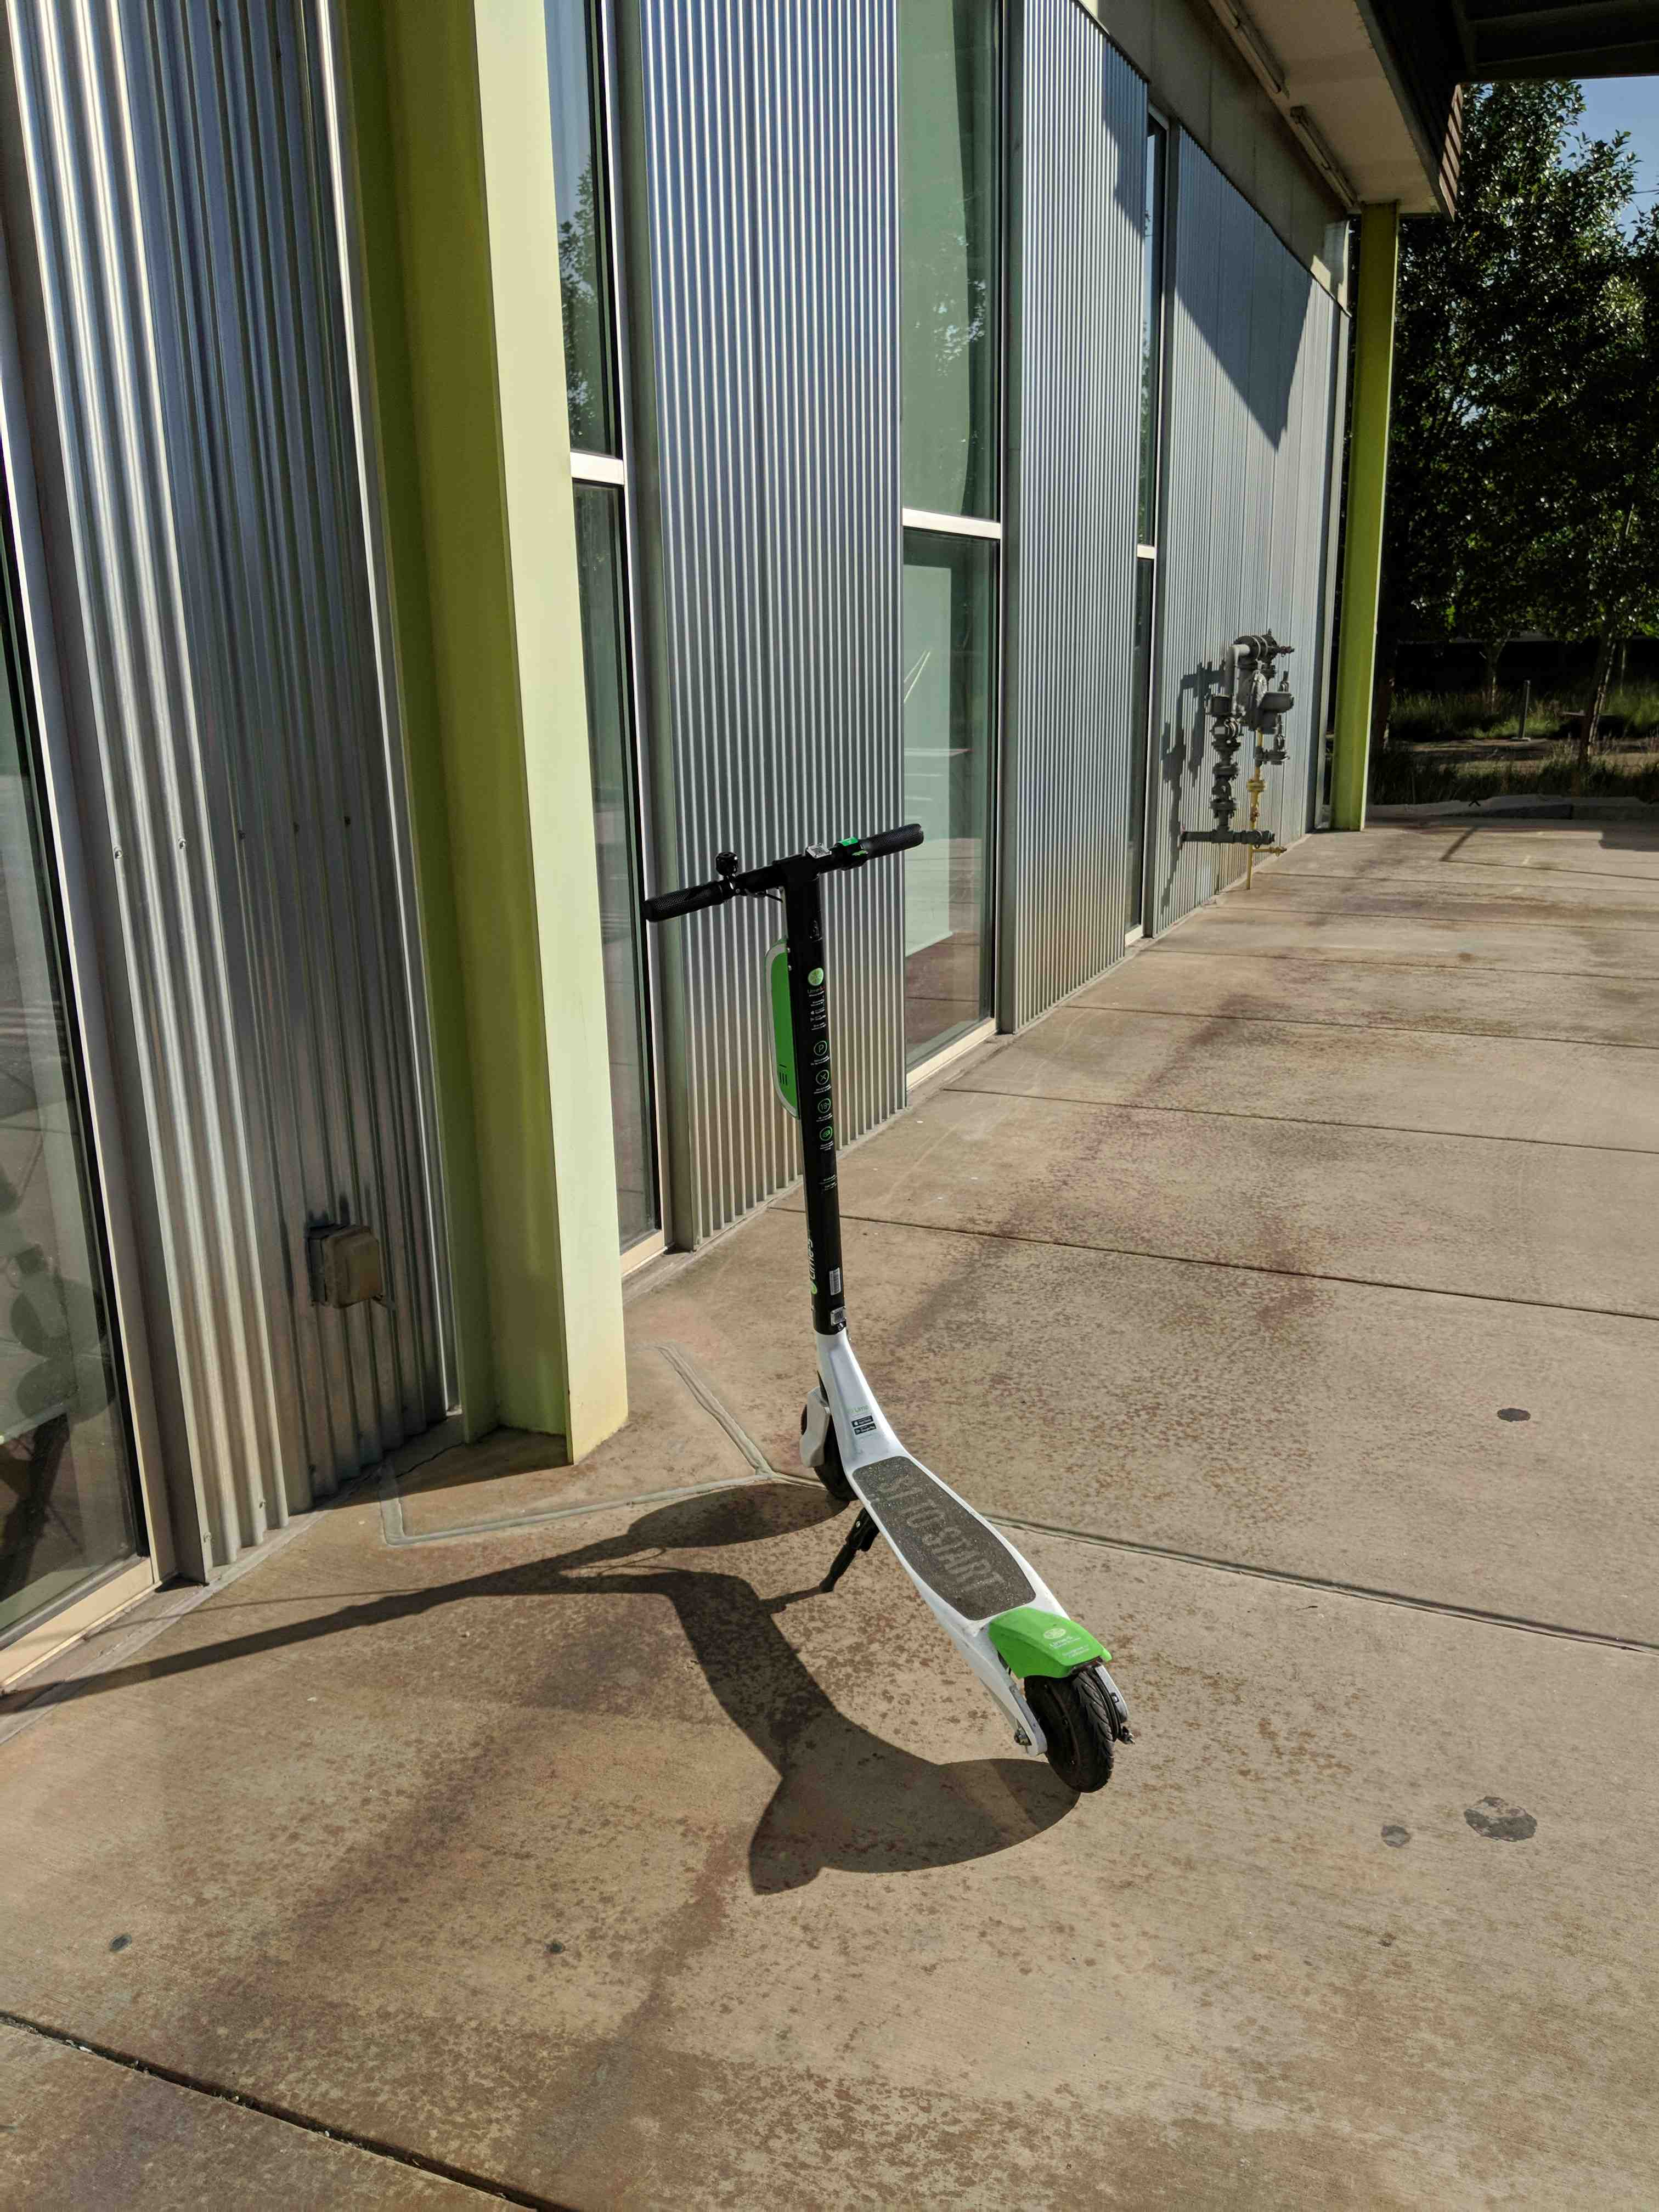scooter: (596, 796, 1194, 1811)
